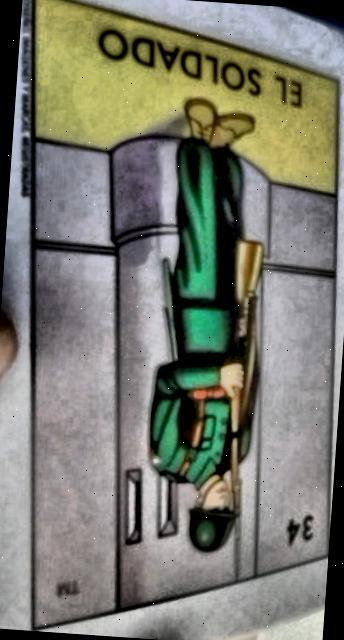El Soldado: (30, 0, 338, 631)
